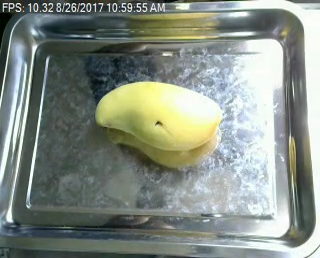Mango: (93, 83, 222, 152)
